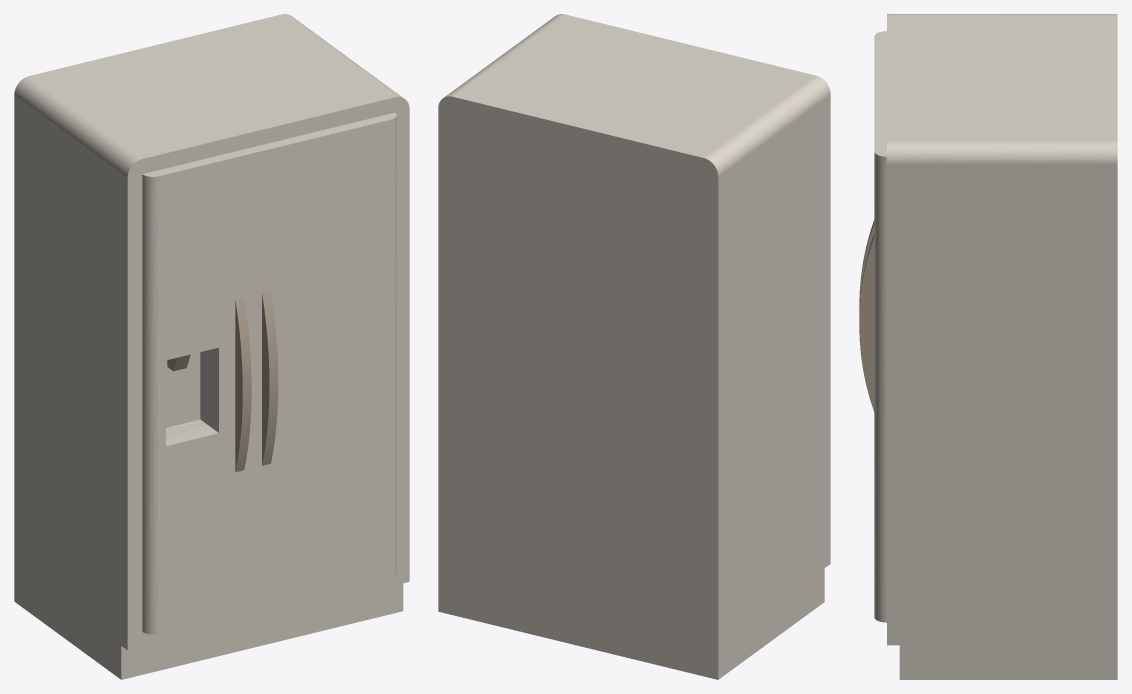
File: kitKitchenFridgeLarge.glb
3 renders of one model, left to right at view 1: azimuth 30°, elevation 25°; view 2: azimuth 150°, elevation 25°; view 3: azimuth 270°, elevation 25°, orthographic. The views are drawn at different scales.
Visible parts, largest first — view 1: kitKitchenFridgeLarge_metalLight, kitKitchenFridgeLarge_metalMedium; view 2: kitKitchenFridgeLarge_metalLight; view 3: kitKitchenFridgeLarge_metalLight, kitKitchenFridgeLarge_metalMedium.
Boxes of the visible parts, x1,y1,x2,y2 form: kitKitchenFridgeLarge_metalLight: [14, 14, 409, 679]; kitKitchenFridgeLarge_metalMedium: [166, 291, 278, 472]; kitKitchenFridgeLarge_metalLight: [438, 14, 830, 679]; kitKitchenFridgeLarge_metalLight: [874, 14, 1117, 679]; kitKitchenFridgeLarge_metalMedium: [859, 220, 874, 411].
Bounding box in the file's own units: 0.96 × 1.7 × 0.7487.
